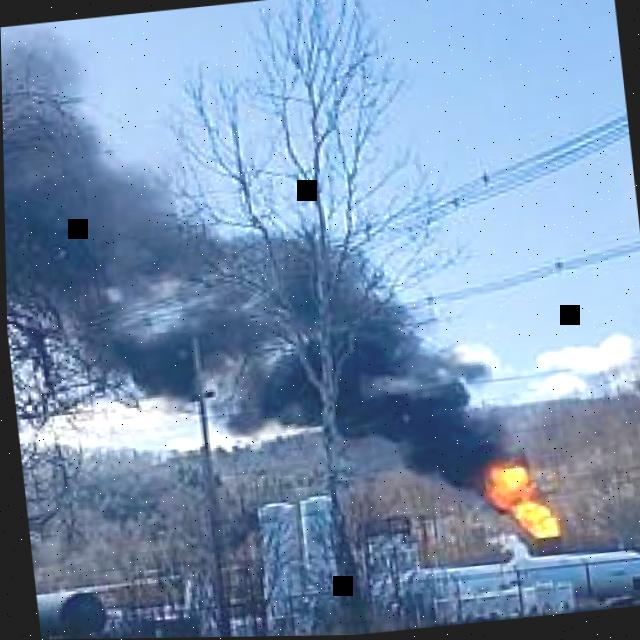fire: (481, 463, 556, 539)
smoke: (1, 32, 515, 490)
